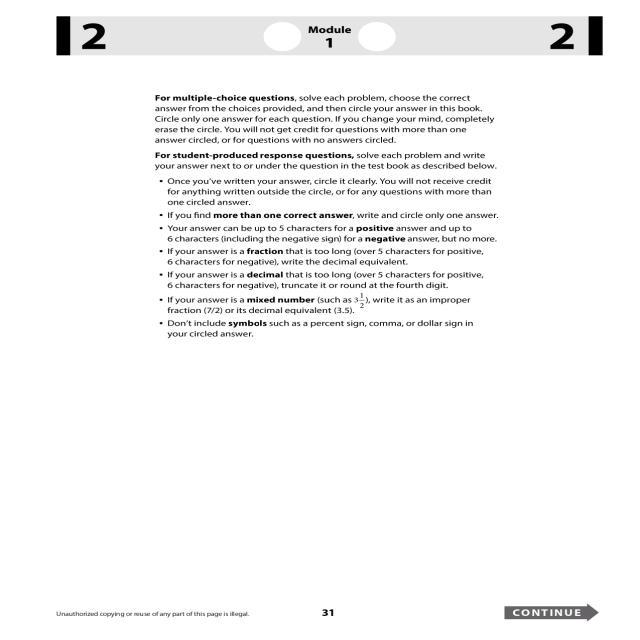Instruction: (70, 80, 542, 390)
Question_Paper_Area: (72, 59, 545, 542)
